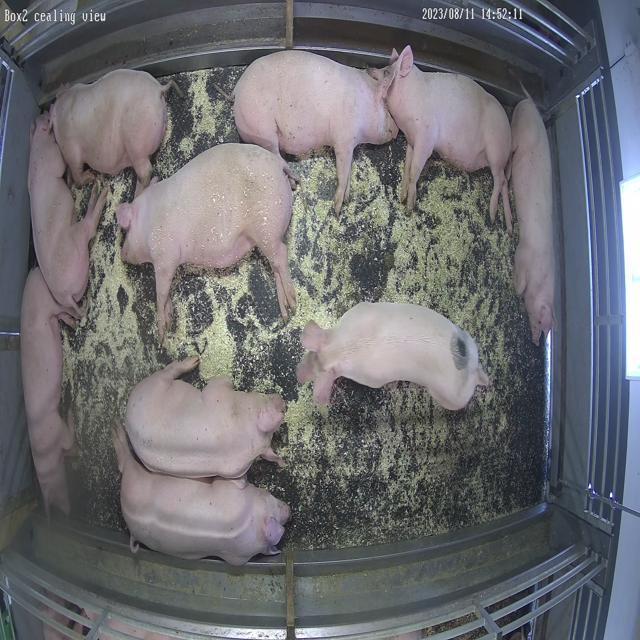Pig: (117, 144, 296, 340), (233, 50, 399, 214), (374, 45, 513, 234), (113, 427, 290, 567), (299, 303, 490, 410), (125, 358, 286, 480), (27, 113, 106, 312), (49, 69, 172, 190), (20, 268, 73, 514), (511, 97, 555, 344)
